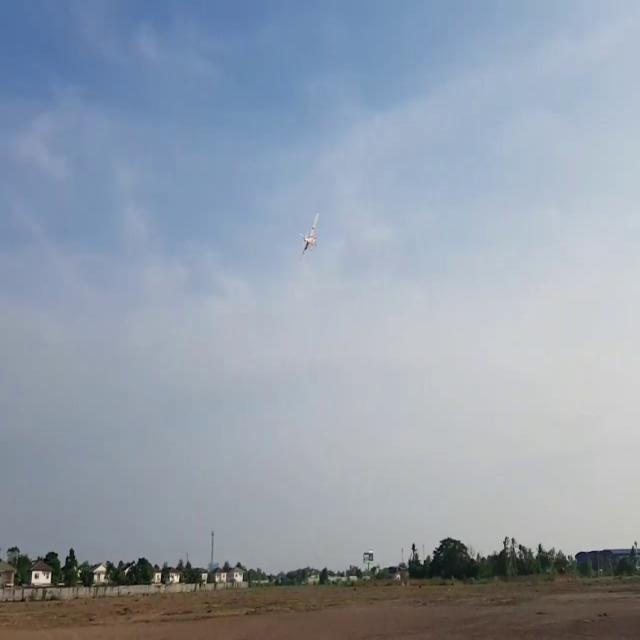iha: (297, 212, 320, 268)
